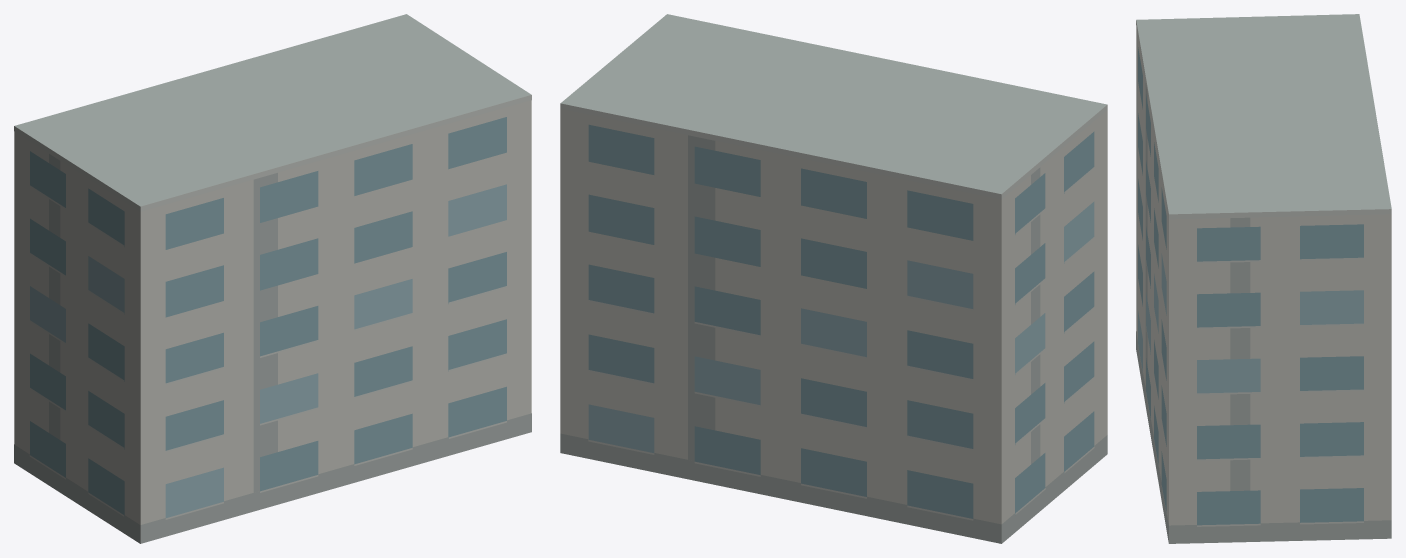
Rendered from survey-upis-32481881.glb.
3 views of the same model, side by side, from view 1: azimuth 30°, elevation 25°; view 2: azimuth 150°, elevation 25°; view 3: azimuth 270°, elevation 25° (orthographic). The views are drawn at different scales.
Visible parts, largest first — view 1: survey-upis-32481881.tmp; view 2: survey-upis-32481881.tmp; view 3: survey-upis-32481881.tmp.
Part boxes in pixels (x1,y1,x2,y2): survey-upis-32481881.tmp: (14,14,531,543); survey-upis-32481881.tmp: (560,14,1107,543); survey-upis-32481881.tmp: (1136,14,1391,543).
Size of the model in its own units: 19.89 by 15.25 by 10.73.
